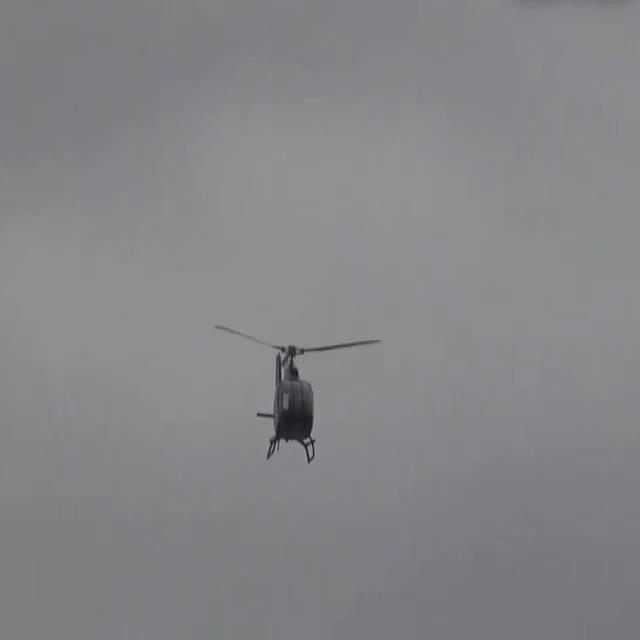Helicopter: (198, 266, 389, 496)
